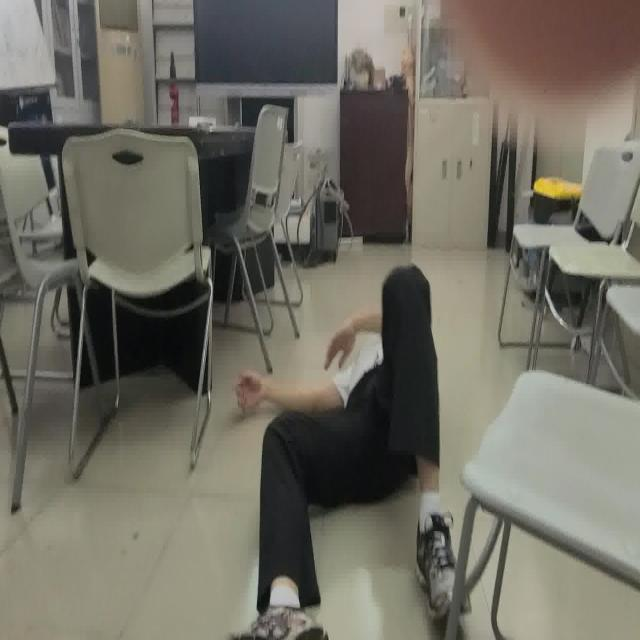Fall-Detected: (225, 262, 472, 640)
